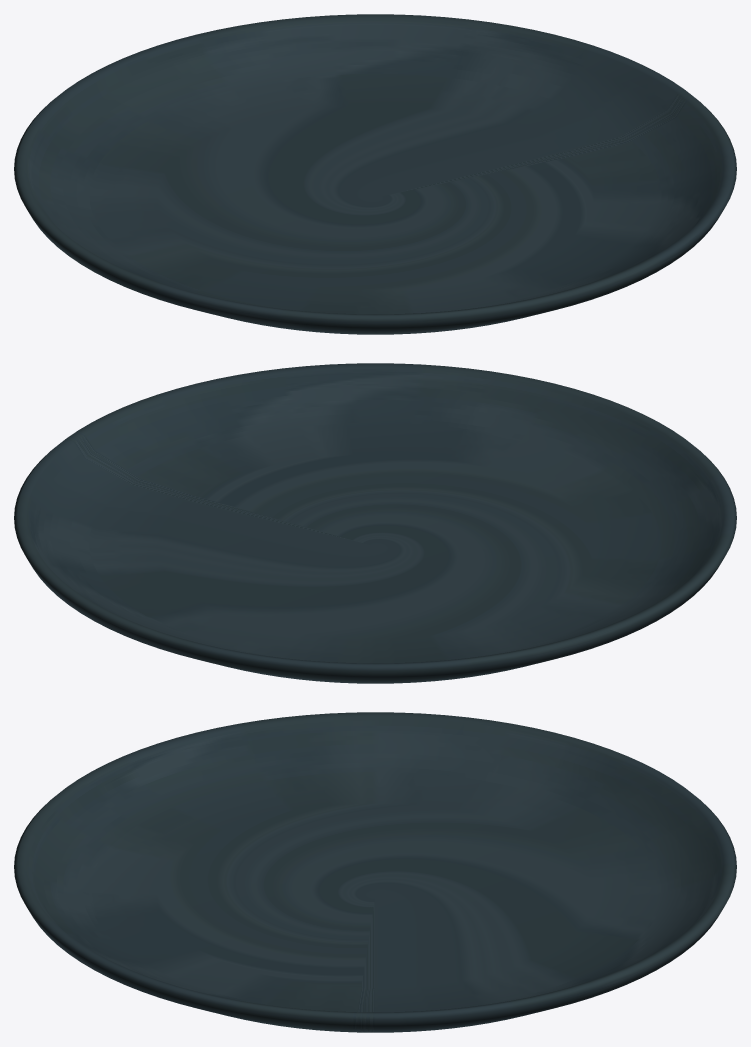
The model's file is dishware__matcha_saucer.glb.
The picture shows the model from 3 angles, top to bottom: view 1: azimuth 30°, elevation 25°; view 2: azimuth 150°, elevation 25°; view 3: azimuth 270°, elevation 25°; orthographic projection.
Parts seen in each view (by area): view 1: body; view 2: body; view 3: body.
Part boxes in pixels (x1=…): body: x1=14, y1=14, x2=736, y2=334; body: x1=14, y1=363, x2=736, y2=683; body: x1=14, y1=712, x2=736, y2=1032.
Bounding box in the file's own units: 0.178 × 0.016 × 0.178.
Materials: 1 (1 with a texture image).
